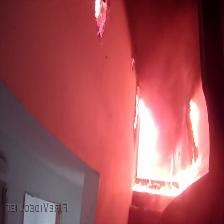fire: (130, 87, 208, 193)
